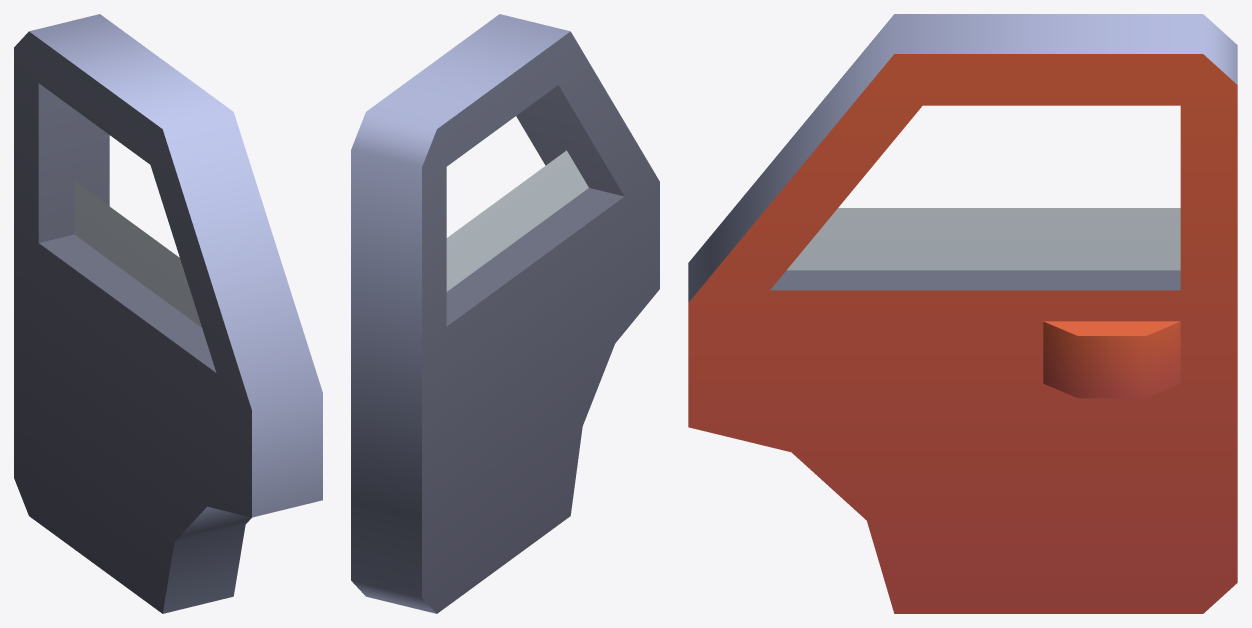
File: debris-door-window.fbx
3 renders of one model, left to right at view 1: azimuth 30°, elevation 25°; view 2: azimuth 150°, elevation 25°; view 3: azimuth 270°, elevation 25°, orthographic. The views are drawn at different scales.
Parts seen in each view (by area): view 1: debris-door-window; view 2: debris-door-window; view 3: debris-door-window.
Part boxes in pixels (x1=…): debris-door-window: x1=14, y1=14, x2=322, y2=613; debris-door-window: x1=351, y1=14, x2=659, y2=613; debris-door-window: x1=688, y1=14, x2=1237, y2=613.
Size of the model in its own units: 18.8 by 90 by 80.
1 material, 1 textured.
